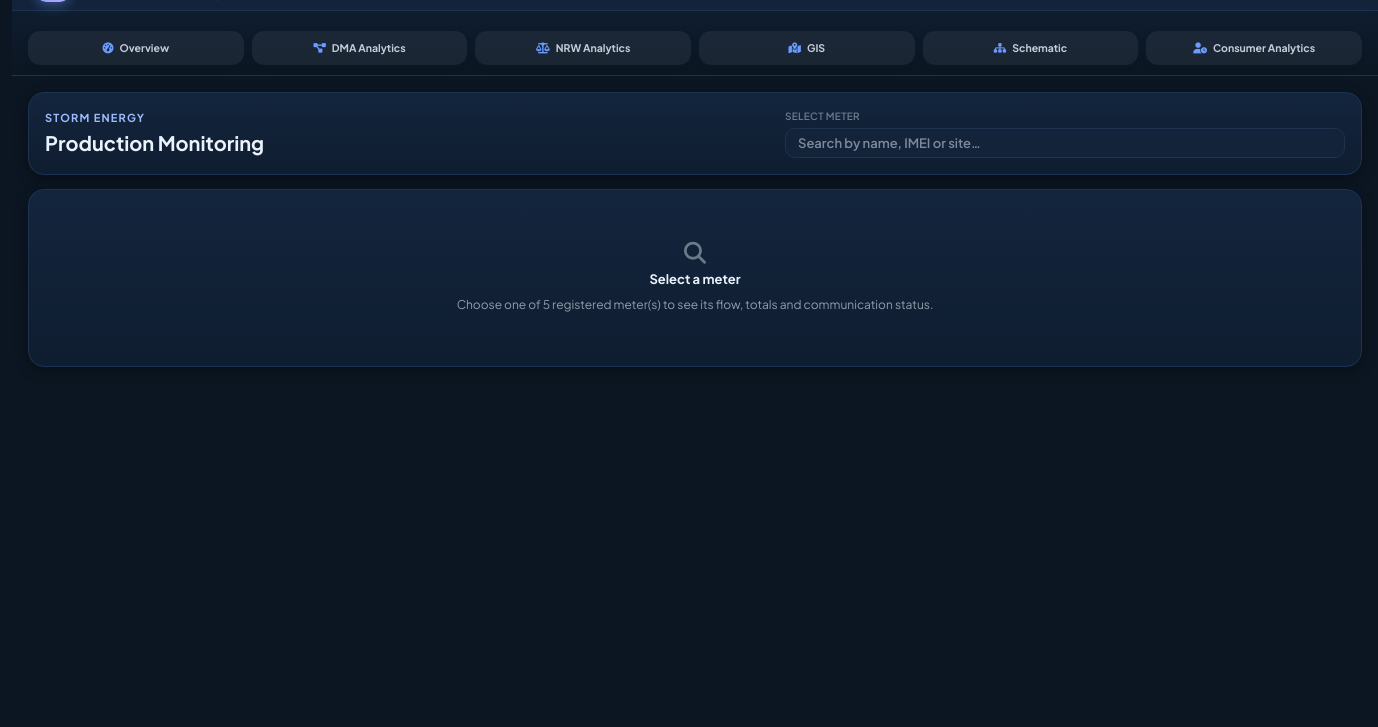
Test: Production › lists only registered meters and selecting one updates the URL
Expected: the element with test id "production-select-prompt" is shown, [457, 242, 933, 312]
Focus the dropdown named "Select meter". click: (1065, 143)
box: [785, 128, 1345, 158]
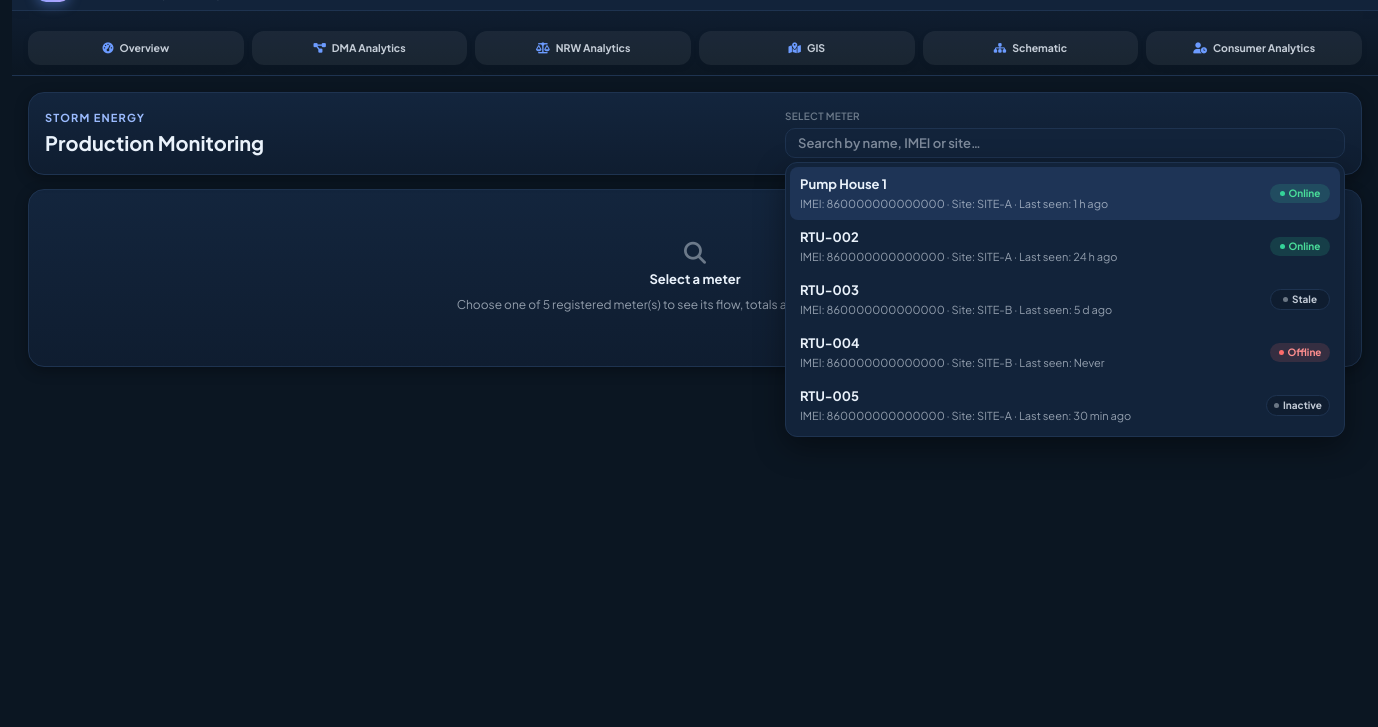
Type "pump" into the dropdown named "Select meter". click: (1065, 143)
box: [785, 128, 1345, 158]
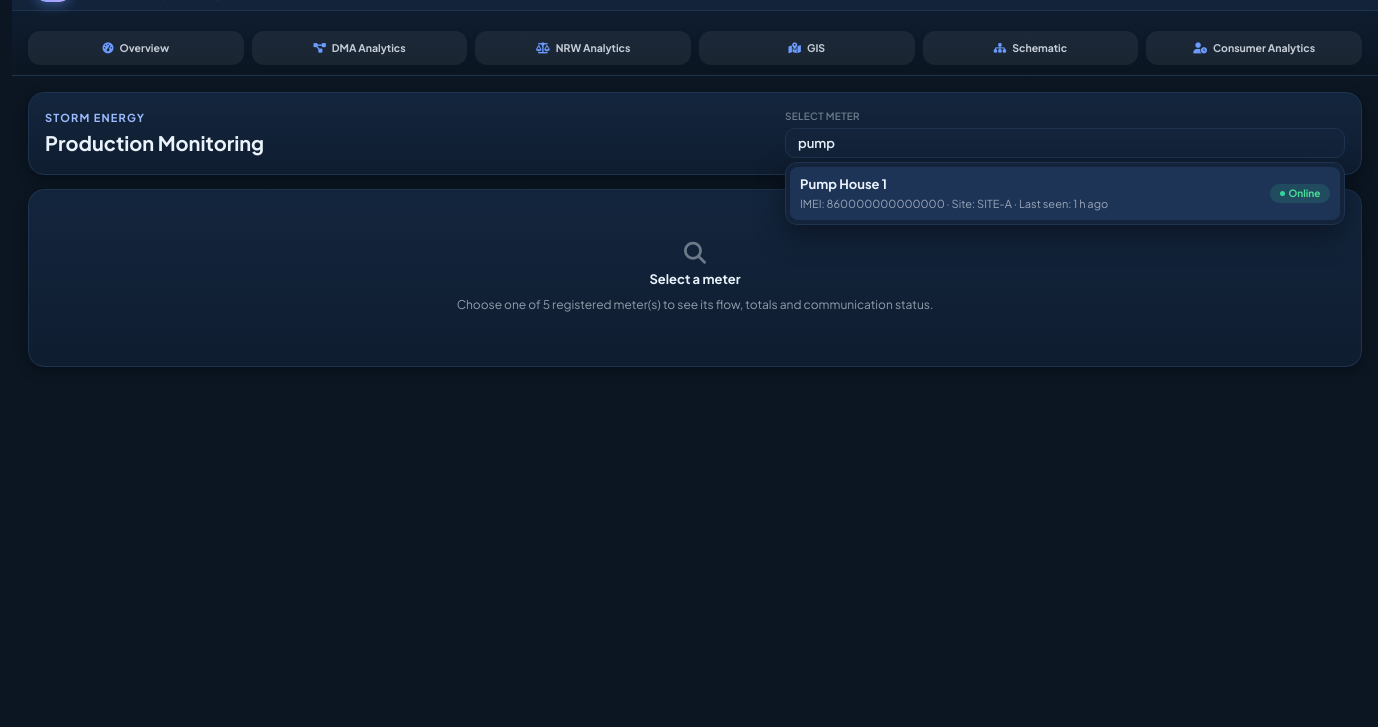
Expected: the option shows "Pump House 1"
Press the mouse on the option at (1065, 194), box [790, 167, 1340, 220]
(page scrolled)
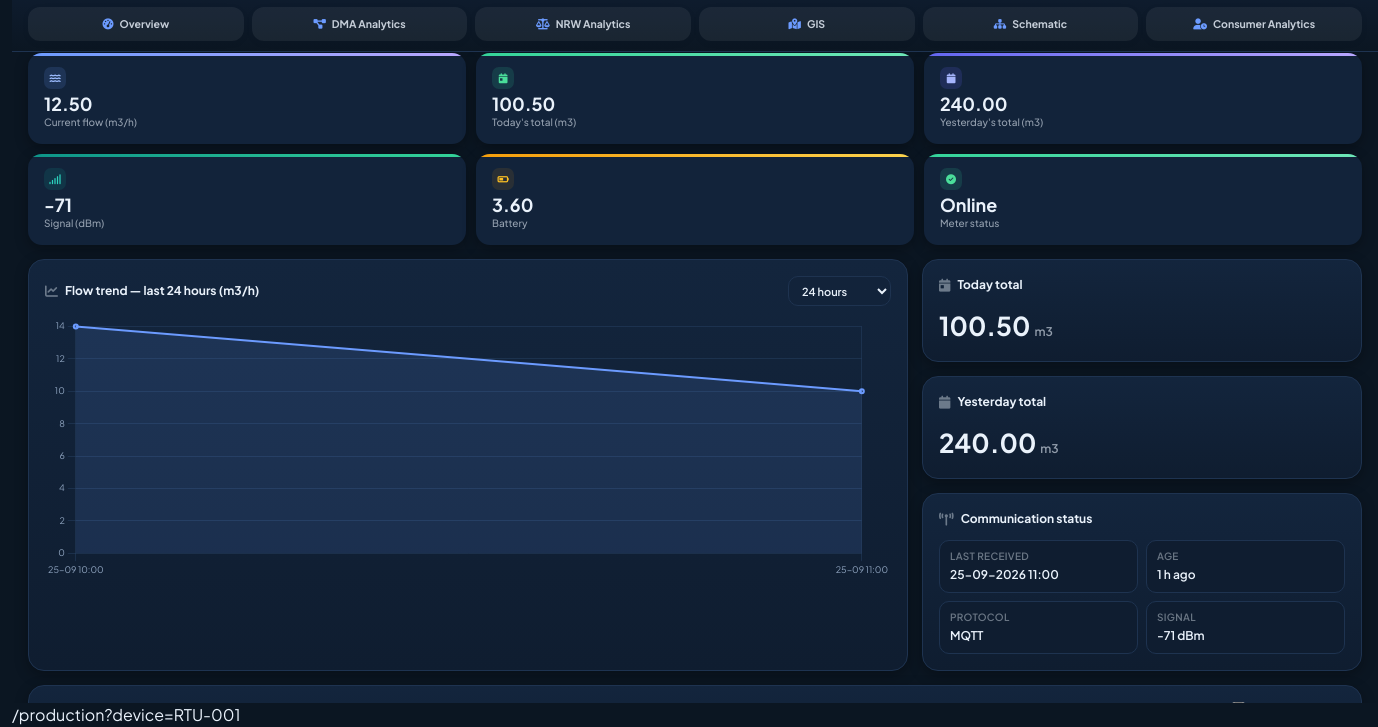
Expected: the text with test id "where" reads "/production?device=RTU-001", [12, 704, 240, 725]
Expected: the element with test id "meter-dashboard" is shown
